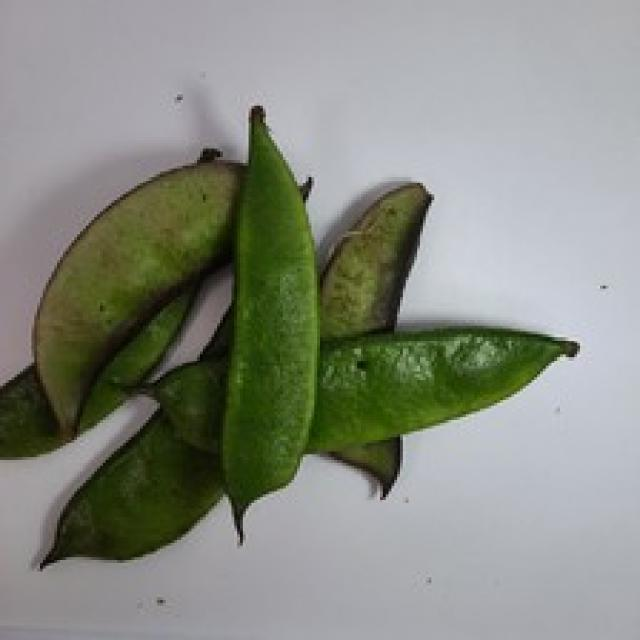Bean: (28, 146, 245, 440), (217, 103, 320, 543)
